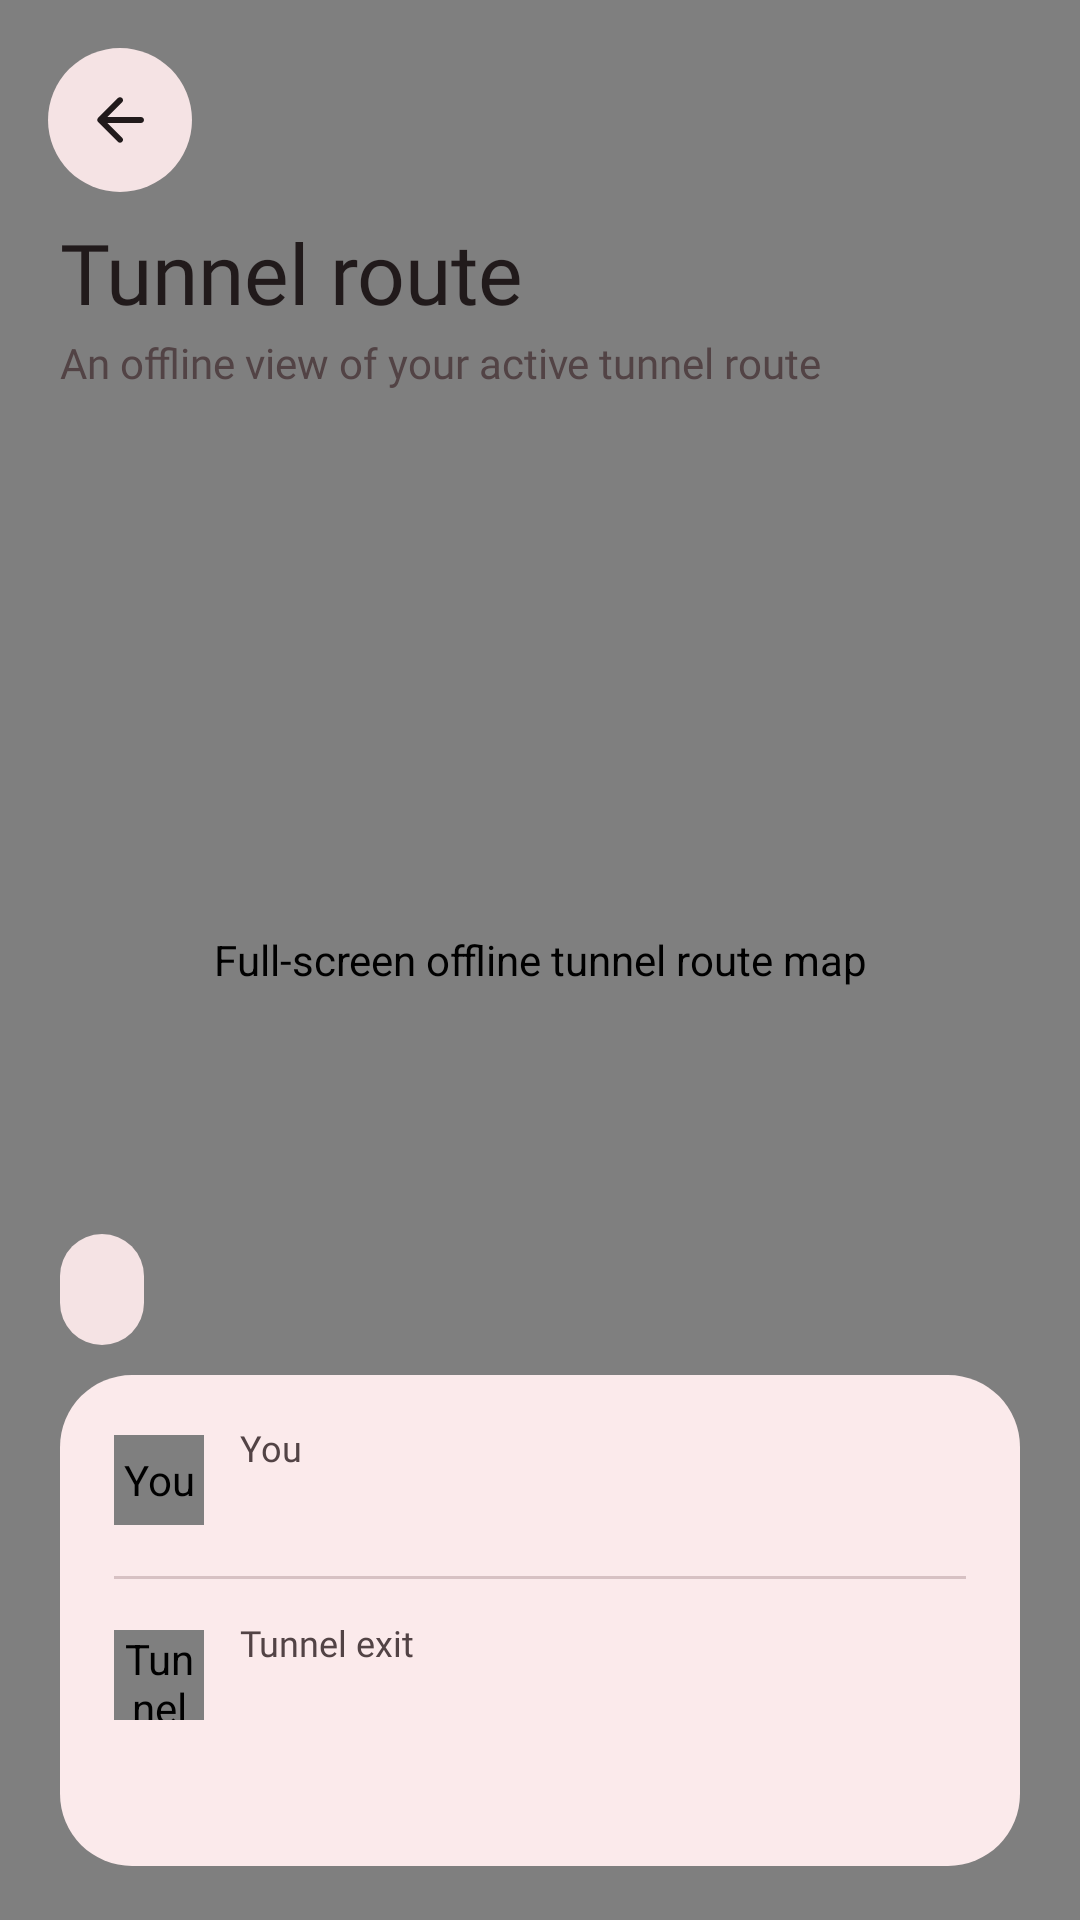

Icons on this 1080×1920 Android screen, each with its box as rect(x1, y1, x2, y2):
Back: rect(48, 48, 192, 192)
